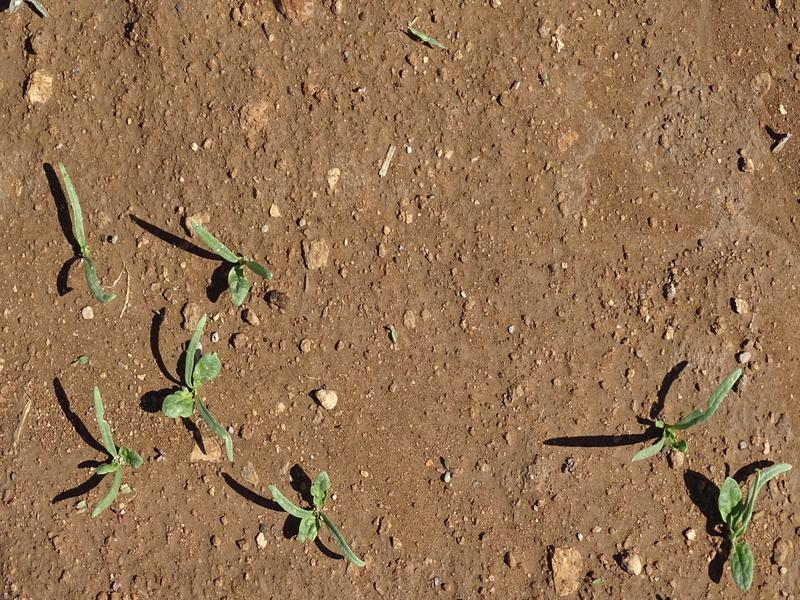Espinaca: (164, 316, 253, 460), (628, 364, 747, 464), (60, 161, 126, 308), (716, 463, 791, 591), (273, 468, 369, 567), (181, 227, 281, 310), (81, 402, 140, 518)
